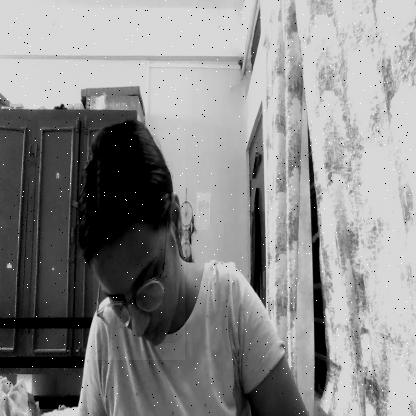Distracted: (93, 131, 185, 360)
